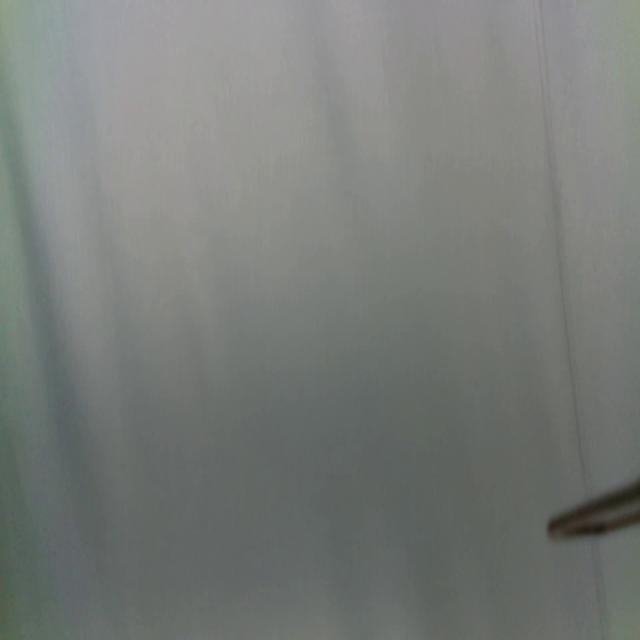crease: (532, 1, 588, 499)
